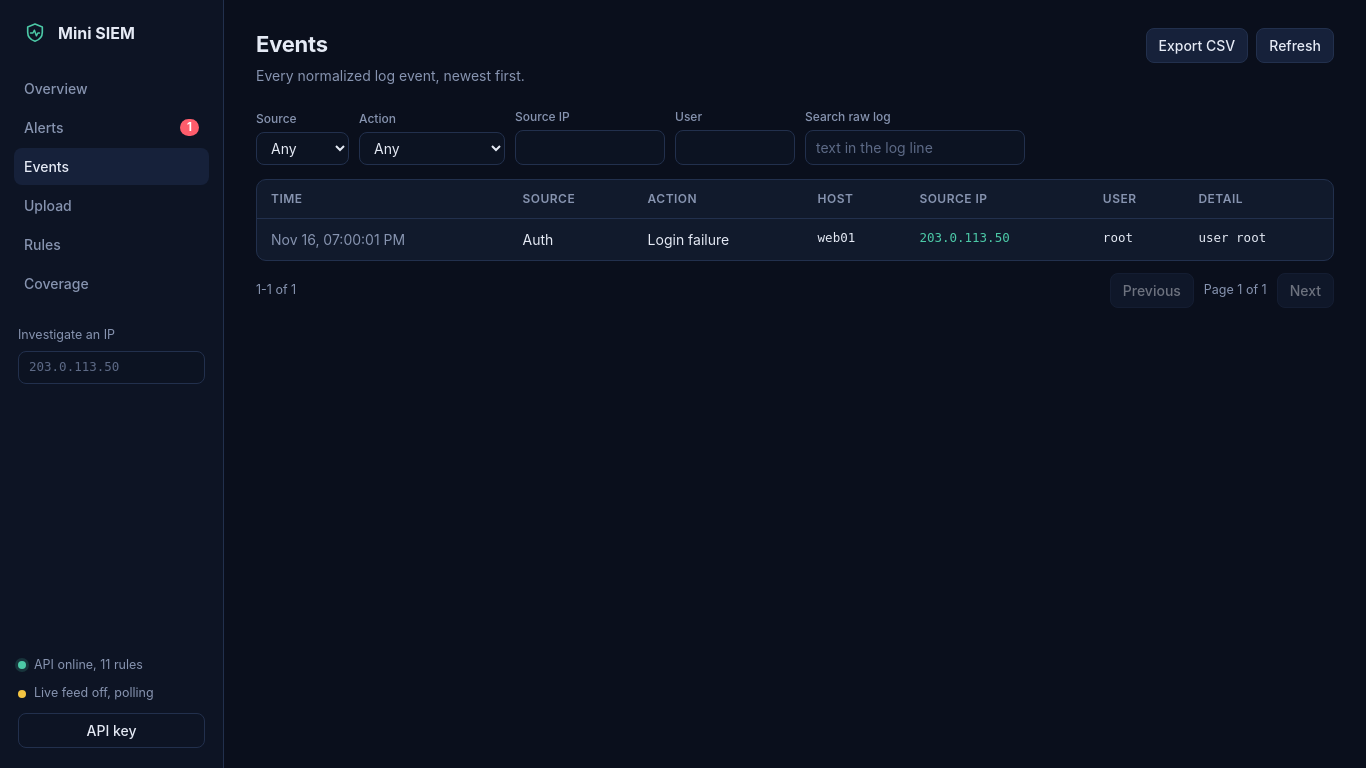
Test: Events › expands a row to show the raw log line
Step 1. Click the text "user root" → point(1259, 239), box left=1184, top=218, right=1333, bottom=260
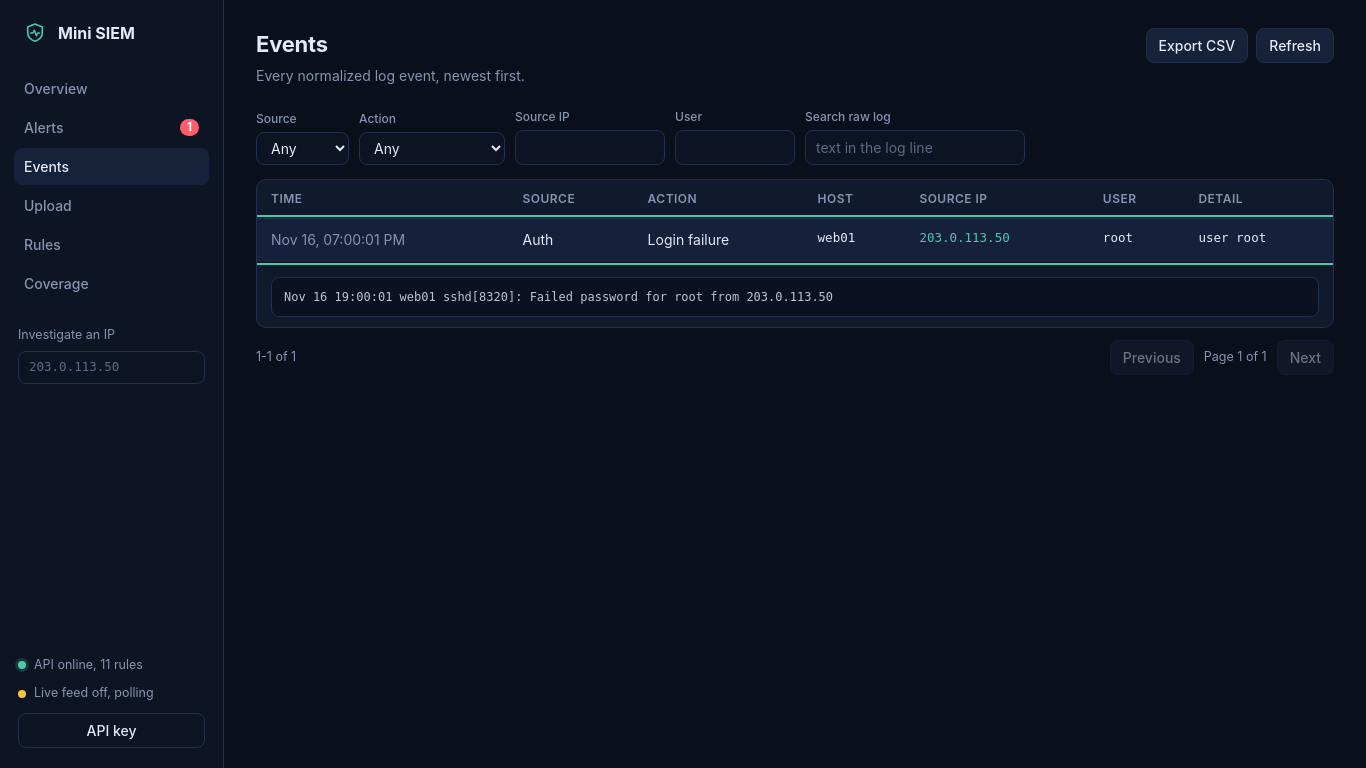
Expected: the text "Failed password for root from 203.0.113.50" is shown, left=284, top=290, right=833, bottom=304
